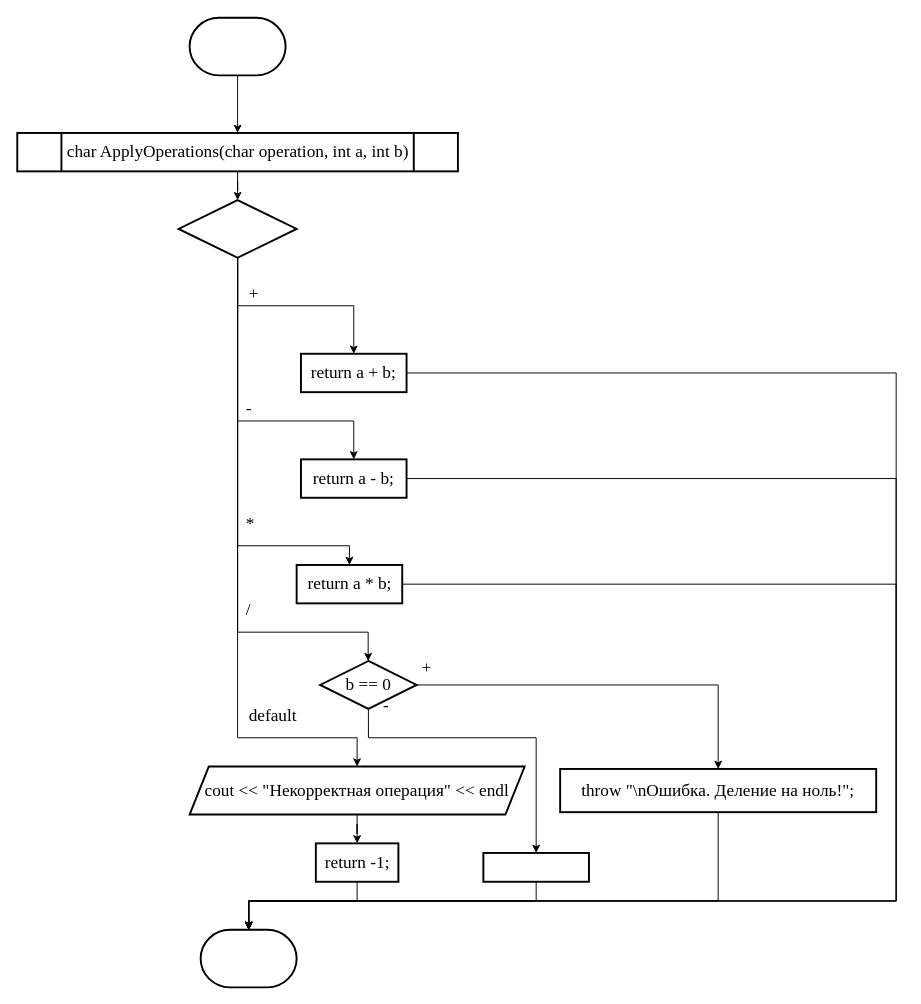
Some shapes in this 921 by 1004 pixel diagram are drawn without their labels. The box of each missing label's shape, as (x1, y1, x2, y2) in pixels:
operation: (177, 199, 297, 258)
return a / b;: (482, 852, 589, 882)
Конец: (199, 928, 297, 988)
Начало: (188, 16, 286, 76)
